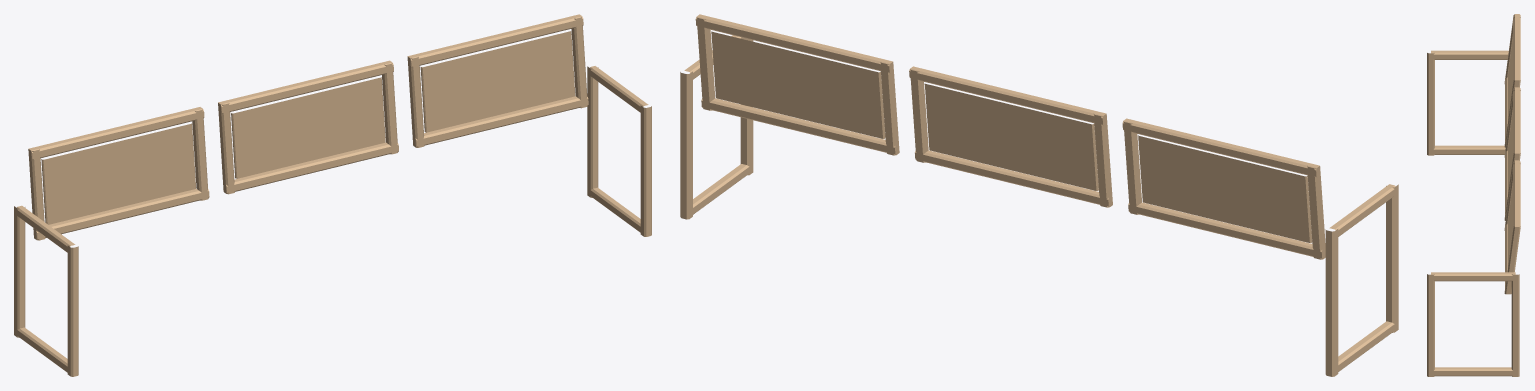
Rendered from lotprop__lot_church_nave_pew_panels.glb.
The picture shows the model from 3 angles, left to right: view 1: azimuth 30°, elevation 25°; view 2: azimuth 150°, elevation 25°; view 3: azimuth 270°, elevation 25°; orthographic projection. The views are drawn at different scales.
Parts seen in each view (by area): view 1: lotprop__lot_church_nave_pew_panels_back, lotprop__lot_church_nave_pew_panels_ends; view 2: lotprop__lot_church_nave_pew_panels_back, lotprop__lot_church_nave_pew_panels_ends; view 3: lotprop__lot_church_nave_pew_panels_ends, lotprop__lot_church_nave_pew_panels_back.
Boxes of the visible parts, <box> form: lotprop__lot_church_nave_pew_panels_back: <box>28,14,588,240</box>; lotprop__lot_church_nave_pew_panels_ends: <box>14,66,651,376</box>; lotprop__lot_church_nave_pew_panels_back: <box>695,14,1325,259</box>; lotprop__lot_church_nave_pew_panels_ends: <box>680,35,1398,376</box>; lotprop__lot_church_nave_pew_panels_ends: <box>1427,50,1519,376</box>; lotprop__lot_church_nave_pew_panels_back: <box>1504,14,1520,294</box>.
Size of the model in its own units: 2.64 by 0.79 by 0.4654.
